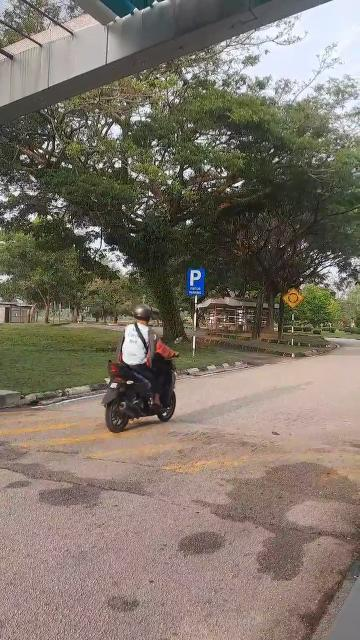motorcycle: (105, 306, 186, 432)
